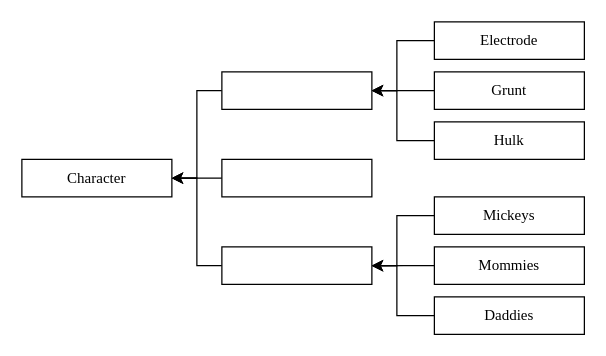
Some shapes in this 606 by 356 pixel diagram are drawn without their labels. Here are the shapes that lost their labels. From the top down, the box of each, then its label:
(221, 71, 372, 109): Enemy
(221, 158, 372, 197): Hero
(221, 246, 372, 284): Human
